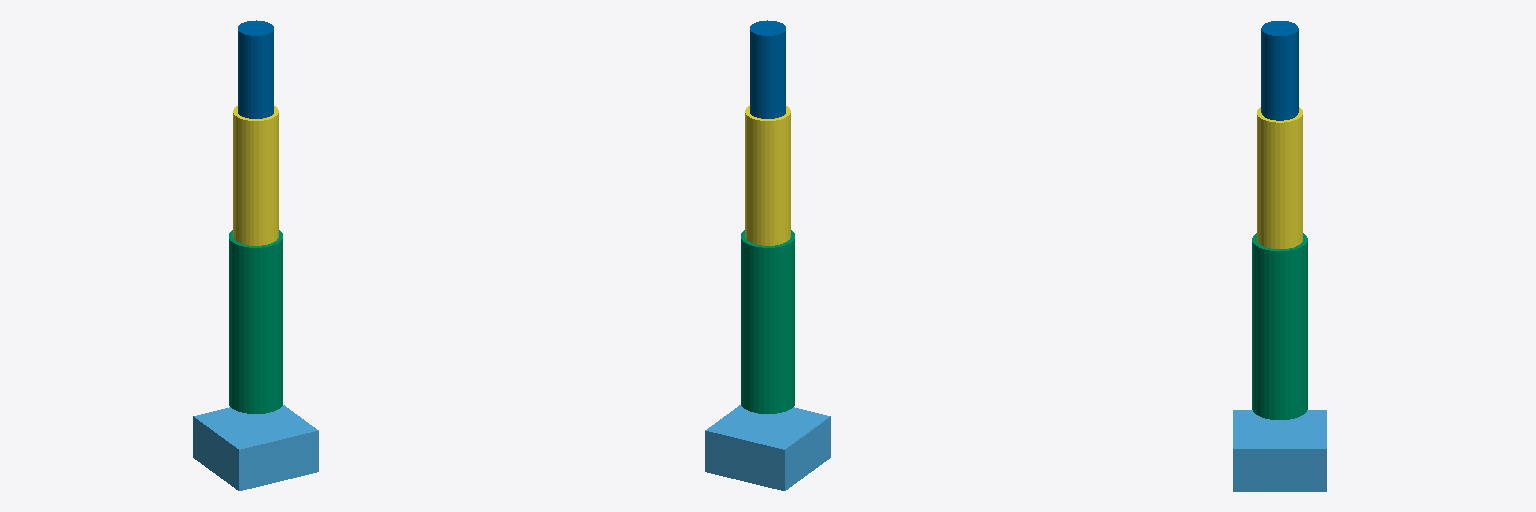
robot.urdf — mycobot_csv_test_three:
<?xml version="1.0"?>
<robot name="mycobot_csv_test_three">

  <link name="world"/>

  <link name="base_link">
    <visual><geometry><box size="0.1 0.1 0.05"/></geometry></visual>
  </link>

  <joint name="base_fixed" type="fixed">
    <parent link="world"/>
    <child  link="base_link"/>
  </joint>

  <link name="link_1">
    <visual><geometry><cylinder length="0.2" radius="0.03"/></geometry>
    <origin xyz="0 0 0.1"/></visual>
  </link>

  <joint name="joint_1" type="continuous">
    <parent link="base_link"/>
    <child  link="link_1"/>
    <origin xyz="0 0 0.05" rpy="0 0 0"/>
    <axis xyz="0 0 1"/>
    <limit effort="100" velocity="2.0"/>
  </joint>

  <link name="link_2">
    <visual><geometry><cylinder length="0.15" radius="0.025"/></geometry>
    <origin xyz="0 0 0.075"/></visual>
  </link>

  <joint name="joint_2" type="continuous">
    <parent link="link_1"/>
    <child  link="link_2"/>
    <origin xyz="0 0 0.2" rpy="0 0 0"/>
    <axis xyz="0 1 0"/>
    <limit effort="100" velocity="2.0"/>
  </joint>

  <link name="link_3">
    <visual><geometry><cylinder length="0.10" radius="0.020"/></geometry>
    <origin xyz="0 0 0.05"/></visual>
  </link>

  <joint name="joint_3" type="continuous">
    <parent link="link_2"/>
    <child  link="link_3"/>
    <origin xyz="0 0 0.15" rpy="0 0 0"/>
    <axis xyz="0 1 0"/>
    <limit effort="100" velocity="2.0"/>
  </joint>

  <ros2_control name="MyCobotCSVThreeJoints" type="system">

    <hardware>
      <plugin>mycobot_csv/MyCobotCSV</plugin>
      <param name="ifname">enx00e04c360d9d</param>
    </hardware>

    <joint name="joint_1">
      <param name="slave_index">1</param>
      <param name="counts_per_rad">2085932.0</param>
      <command_interface name="velocity">
        <param name="min">-2.0</param>
        <param name="max"> 2.0</param>
      </command_interface>
      <state_interface name="position"/>
      <state_interface name="velocity"/>
    </joint>

    <joint name="joint_2">
      <param name="slave_index">2</param>
      <param name="counts_per_rad">2085932.0</param>
      <command_interface name="velocity">
        <param name="min">-2.0</param>
        <param name="max"> 2.0</param>
      </command_interface>
      <state_interface name="position"/>
      <state_interface name="velocity"/>
    </joint>

    <joint name="joint_3">
      <param name="slave_index">3</param>
      <param name="counts_per_rad">2085932.0</param>
      <command_interface name="velocity">
        <param name="min">-2.0</param>
        <param name="max"> 2.0</param>
      </command_interface>
      <state_interface name="position"/>
      <state_interface name="velocity"/>
    </joint>

  </ros2_control>

</robot>

--- Render facts (derived) ---
3 views of the same robot in one strip: view 1: azimuth 30°, elevation 25°; view 2: azimuth 150°, elevation 25°; view 3: azimuth 270°, elevation 25° (orthographic).
Robot: mycobot_csv_test_three — 5 links, 4 joints (3 continuous, 1 fixed); root link world; default pose: all joints at 0.
Visible links, largest first — view 1: link_1, base_link, link_2, link_3; view 2: link_1, base_link, link_2, link_3; view 3: link_1, base_link, link_2, link_3.
Link boxes in pixels (bbox=[...]): link_1: bbox=[229, 230, 282, 413]; base_link: bbox=[193, 405, 318, 490]; link_2: bbox=[233, 106, 278, 245]; link_3: bbox=[238, 20, 273, 118]; link_1: bbox=[741, 230, 794, 413]; base_link: bbox=[705, 405, 830, 490]; link_2: bbox=[745, 106, 790, 245]; link_3: bbox=[750, 20, 785, 118]; link_1: bbox=[1252, 233, 1307, 419]; base_link: bbox=[1233, 410, 1326, 491]; link_2: bbox=[1257, 107, 1302, 248]; link_3: bbox=[1261, 21, 1298, 120].
Size in the robot's own frame: 0.1 by 0.1 by 0.525 metres.
Geometry: primitives only (box / cylinder / sphere), no mesh files.
